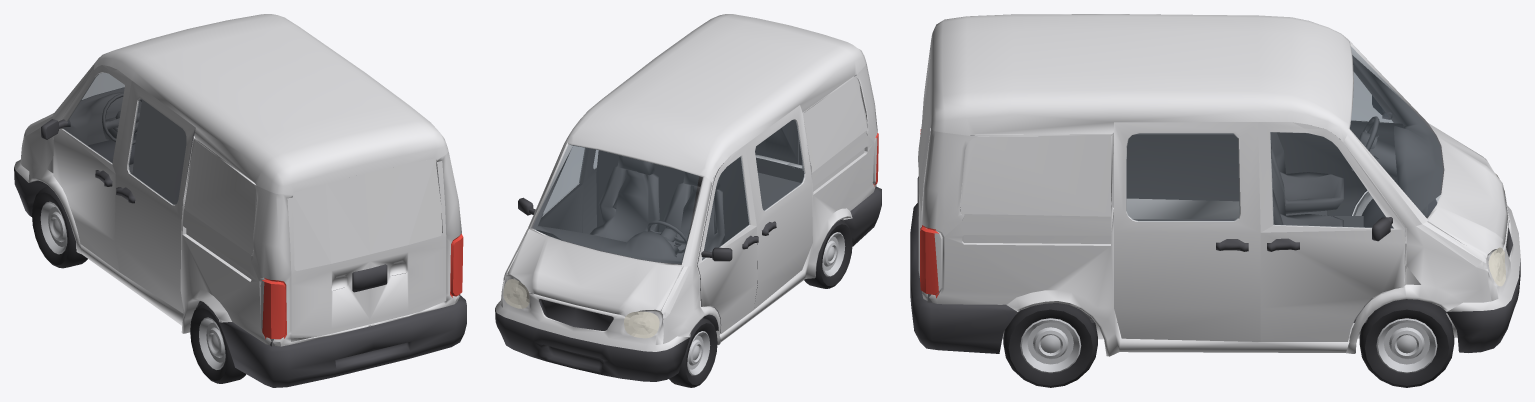
File: van.glb
The picture shows the model from 3 angles, left to right: view 1: azimuth 30°, elevation 25°; view 2: azimuth 150°, elevation 25°; view 3: azimuth 270°, elevation 25°; orthographic projection. The views are drawn at different scales.
Parts seen in each view (by area): view 1: body, left_slide_door_mesh, back_right_door_mesh, back_left_door_mesh, left_door_mesh, wheel_fl_mesh, wheel_rl_mesh; view 2: body, left_slide_door_mesh, left_door_mesh, right_door_mesh, wheel_fl_mesh, wheel_rl_mesh, back_right_door_mesh, right_slide_door_mesh; view 3: body, right_slide_door_mesh, right_door_mesh, left_slide_door_mesh, wheel_fr_mesh, wheel_rr_mesh, left_door_mesh, back_right_door_mesh.
Part boxes in pixels (bbox=[...]): body: bbox=[14, 14, 466, 387]; left_slide_door_mesh: bbox=[114, 81, 195, 313]; back_right_door_mesh: bbox=[352, 158, 446, 324]; back_left_door_mesh: bbox=[287, 174, 369, 341]; left_door_mesh: bbox=[53, 65, 131, 271]; wheel_fl_mesh: bbox=[32, 186, 87, 268]; wheel_rl_mesh: bbox=[190, 303, 246, 383]; body: bbox=[495, 14, 881, 381]; left_slide_door_mesh: bbox=[745, 105, 812, 309]; left_door_mesh: bbox=[697, 145, 758, 333]; right_door_mesh: bbox=[536, 146, 588, 232]; wheel_fl_mesh: bbox=[669, 318, 717, 387]; wheel_rl_mesh: bbox=[804, 220, 852, 288]; back_right_door_mesh: bbox=[755, 120, 798, 164]; right_slide_door_mesh: bbox=[582, 148, 598, 233]; body: bbox=[910, 14, 1520, 356]; right_slide_door_mesh: bbox=[1114, 122, 1260, 341]; right_door_mesh: bbox=[1258, 122, 1404, 341]; left_slide_door_mesh: bbox=[1126, 134, 1239, 201]; wheel_fr_mesh: bbox=[1359, 299, 1454, 387]; wheel_rr_mesh: bbox=[1003, 303, 1097, 387]; left_door_mesh: bbox=[1277, 63, 1403, 215]; back_right_door_mesh: bbox=[917, 93, 930, 277].
Bounding box in the file's own units: 2.45 × 2.36 × 4.6.
